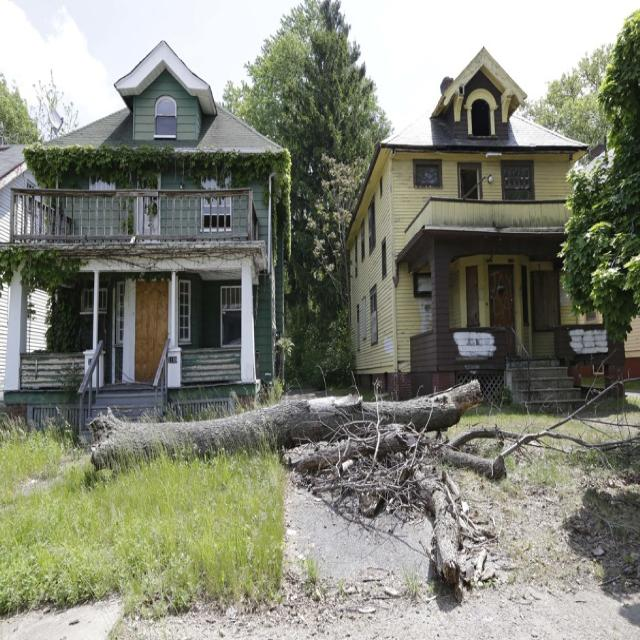House: (0, 36, 292, 446), (343, 45, 640, 414)
